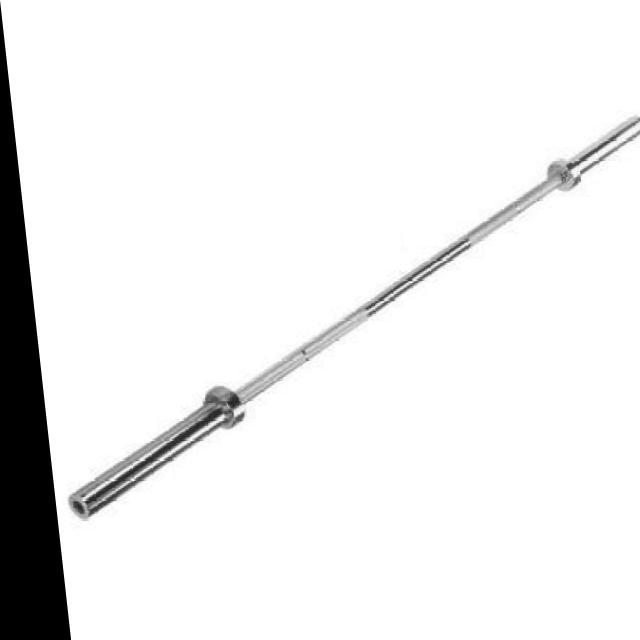barbell: (42, 381, 252, 526)
